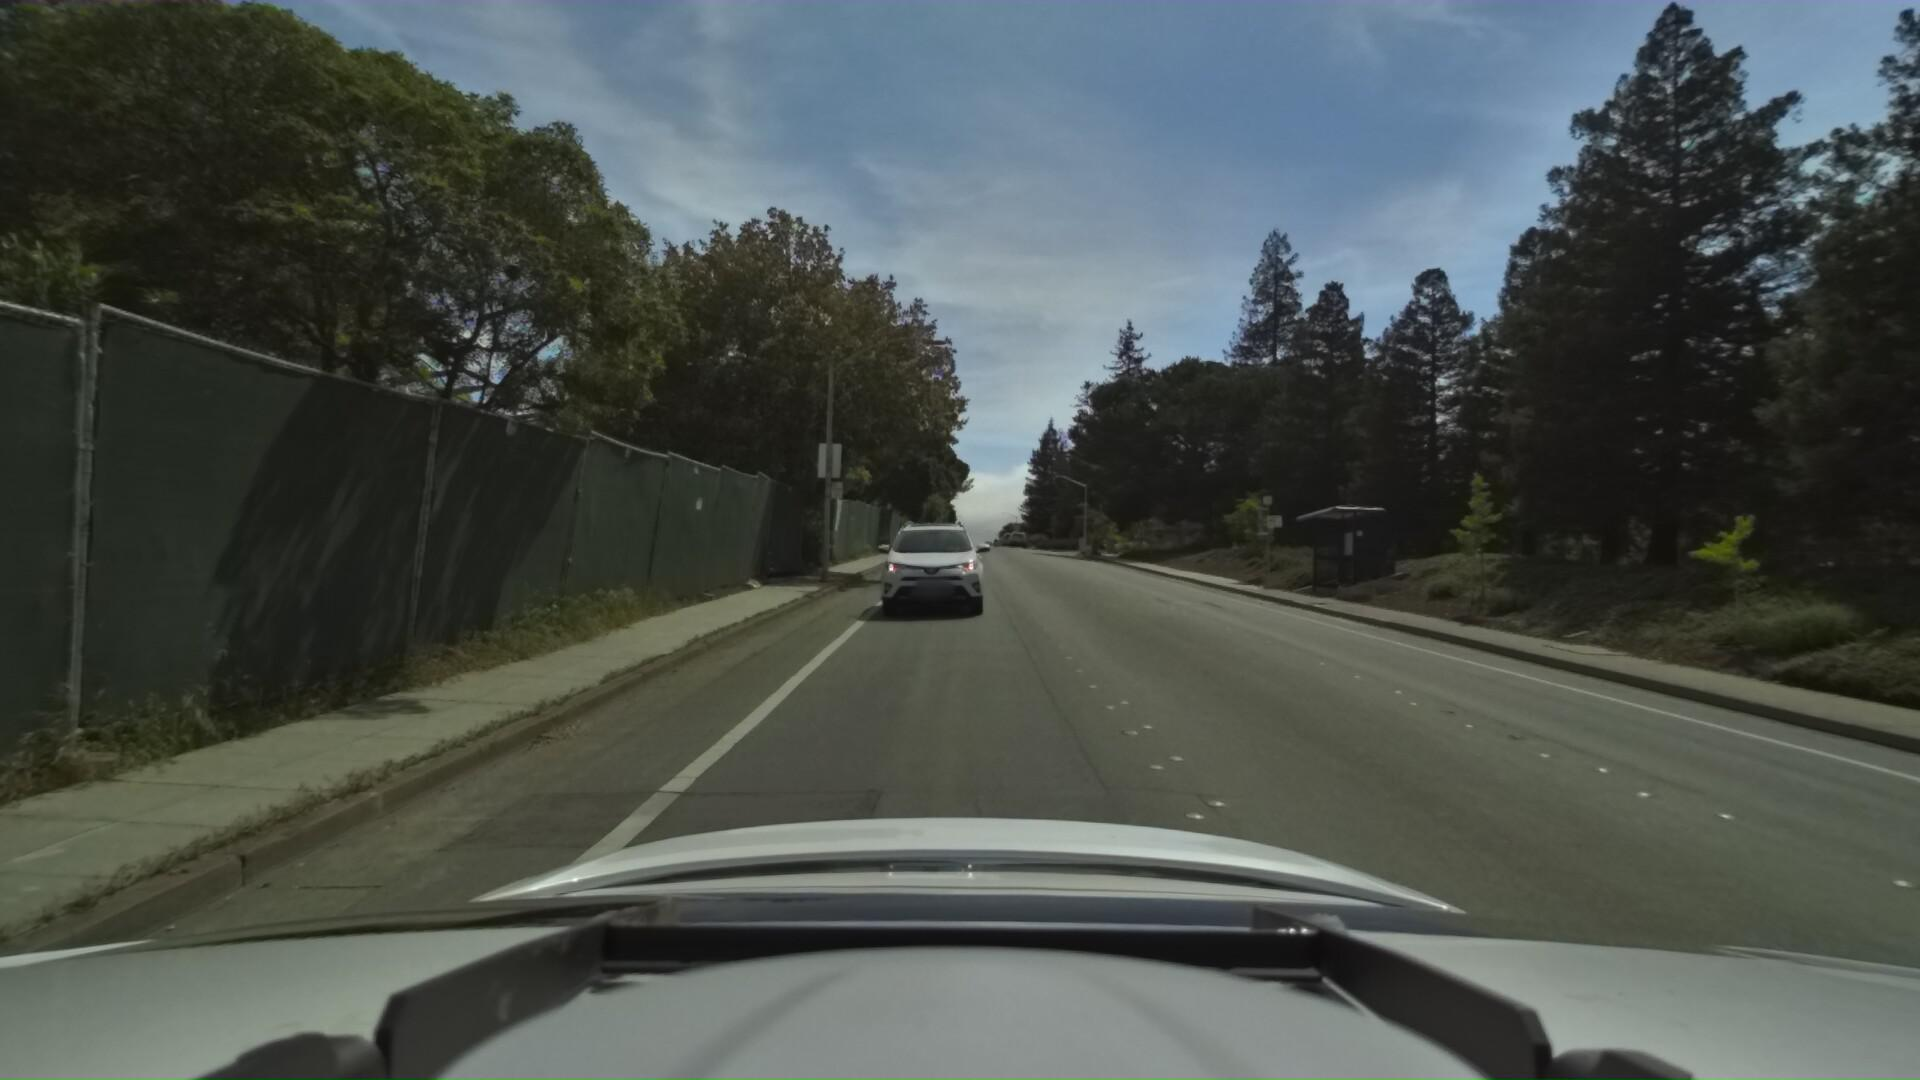car: (868, 498, 986, 620)
